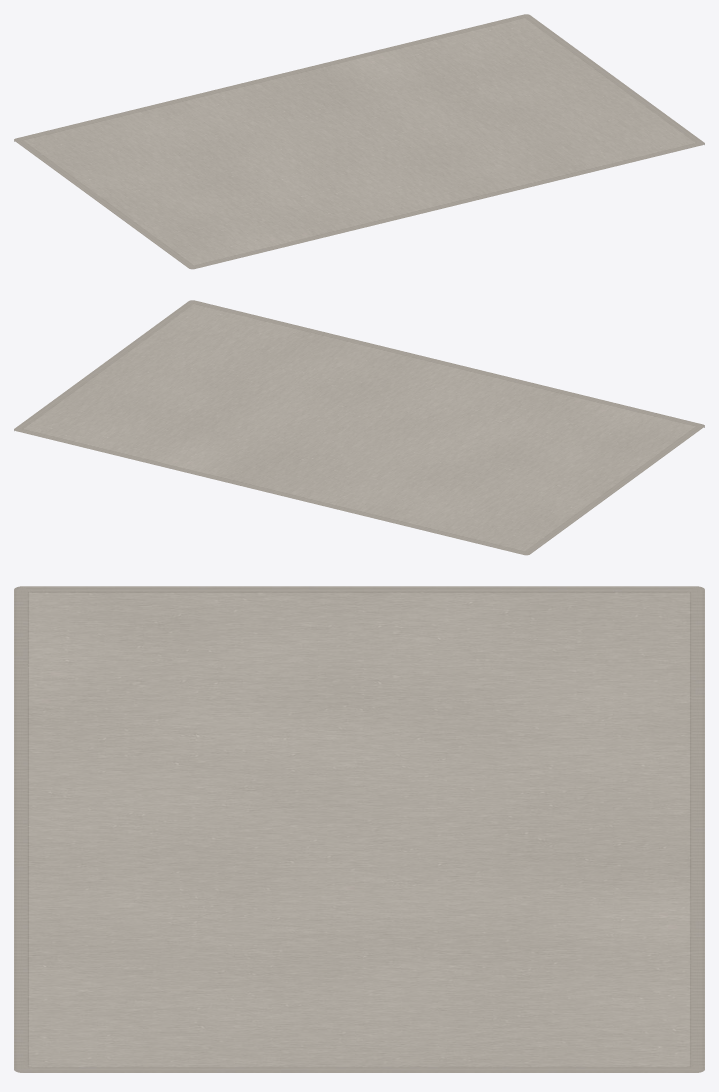
File: beige_widehall_r90.glb
3 views of the same model, one above another, from view 1: azimuth 30°, elevation 25°; view 2: azimuth 150°, elevation 25°; view 3: azimuth 270°, elevation 25° (orthographic). The views are drawn at different scales.
Visible parts, largest first — view 1: reliv_beige_widehall_r90; view 2: reliv_beige_widehall_r90; view 3: reliv_beige_widehall_r90.
Boxes of the visible parts, bbox=[...] form: reliv_beige_widehall_r90: bbox=[14, 14, 704, 269]; reliv_beige_widehall_r90: bbox=[14, 300, 704, 555]; reliv_beige_widehall_r90: bbox=[14, 586, 704, 1072].
Bounding box in the file's own units: 2 × 0.009 × 1.2.
Materials: 2 (1 with a texture image).
